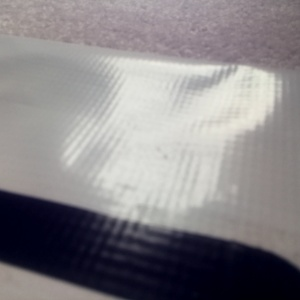bottom_right: (62, 99, 202, 157)
